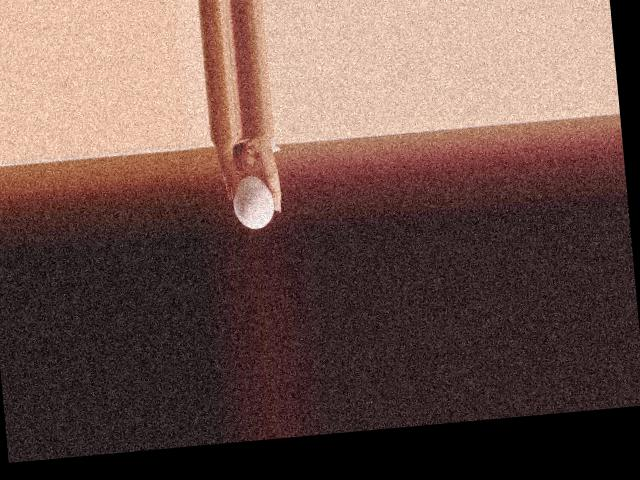egg: (230, 172, 275, 230)
